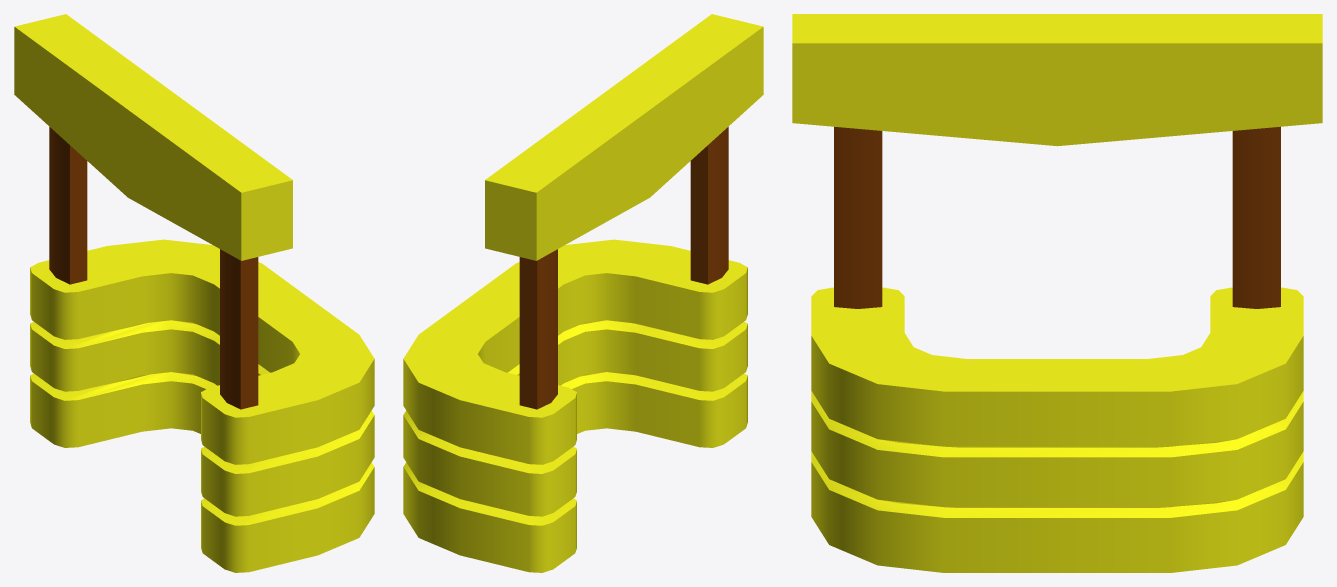
The model's file is upgradestand.fbx.
3 renders of one model, left to right at view 1: azimuth 30°, elevation 25°; view 2: azimuth 150°, elevation 25°; view 3: azimuth 270°, elevation 25°, orthographic. The views are drawn at different scales.
Parts seen in each view (by area): view 1: upgradestand; view 2: upgradestand; view 3: upgradestand.
Boxes of the visible parts, x1,y1,x2,y2 form: upgradestand: (14,14,374,572); upgradestand: (403,14,763,572); upgradestand: (792,14,1322,572).
Size of the model in its own units: 200 by 408 by 431.
